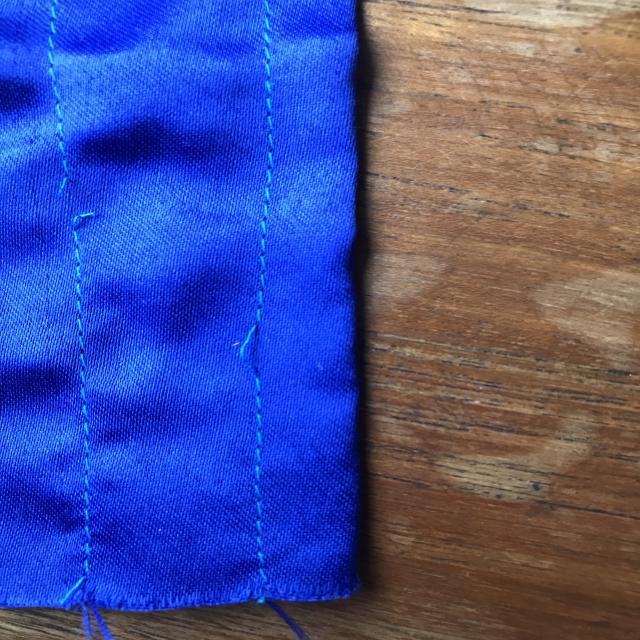broken: (43, 163, 115, 251)
good: (246, 58, 286, 210)
skip: (222, 306, 300, 398)
